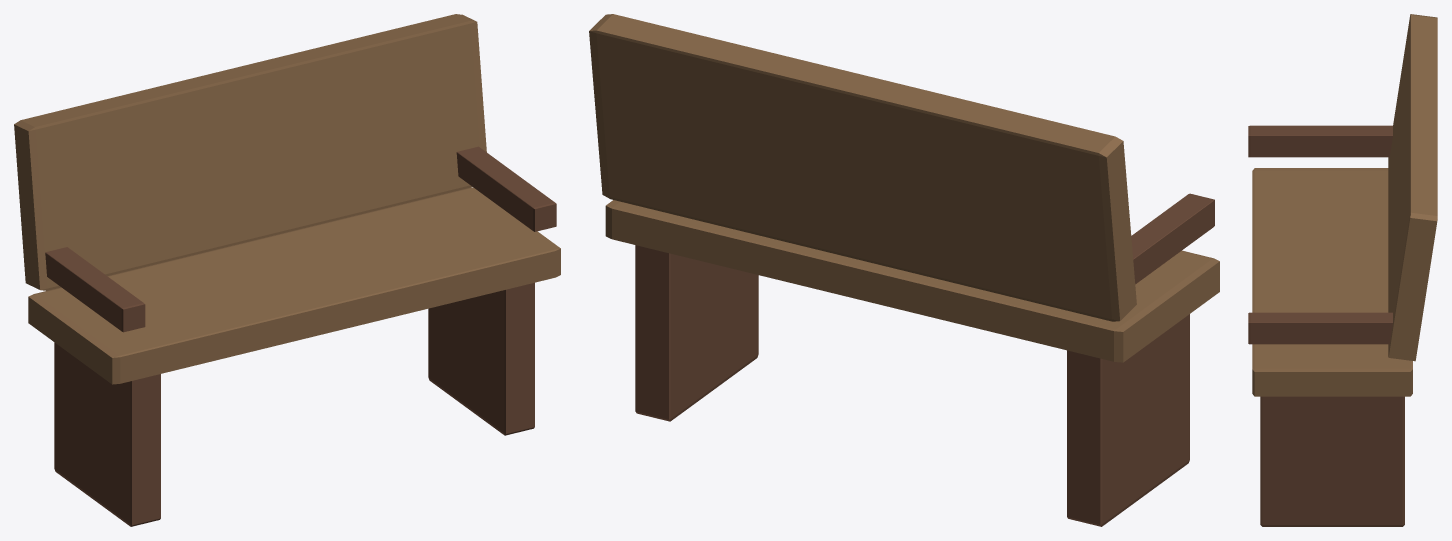
The model's file is bench_new.glb.
3 views of the same model, side by side, from view 1: azimuth 30°, elevation 25°; view 2: azimuth 150°, elevation 25°; view 3: azimuth 270°, elevation 25° (orthographic). The views are drawn at different scales.
Visible parts, largest first — view 1: bn_back, bn_seat, bn_leg-0.5, bn_leg0.5, bn_arm1, bn_arm2; view 2: bn_back, bn_seat, bn_leg-0.5, bn_leg0.5, bn_arm1; view 3: bn_seat, bn_leg0.5, bn_back, bn_arm1, bn_arm2.
Boxes of the visible parts, x1,y1,x2,y2 form: bn_back: (14, 14, 486, 290); bn_seat: (28, 187, 560, 384); bn_leg-0.5: (54, 342, 160, 526); bn_leg0.5: (428, 282, 534, 435); bn_arm1: (45, 247, 145, 332); bn_arm2: (456, 146, 556, 231); bn_back: (589, 14, 1136, 321); bn_seat: (605, 200, 1219, 362); bn_leg-0.5: (1067, 314, 1189, 526); bn_leg0.5: (635, 245, 758, 421); bn_arm1: (1131, 193, 1214, 284); bn_seat: (1252, 168, 1412, 396); bn_leg0.5: (1260, 396, 1404, 526); bn_back: (1388, 14, 1437, 361); bn_arm1: (1248, 125, 1392, 157); bn_arm2: (1248, 312, 1392, 344).
Size of the model in its own units: 1.2 by 0.8828 by 0.4717.
